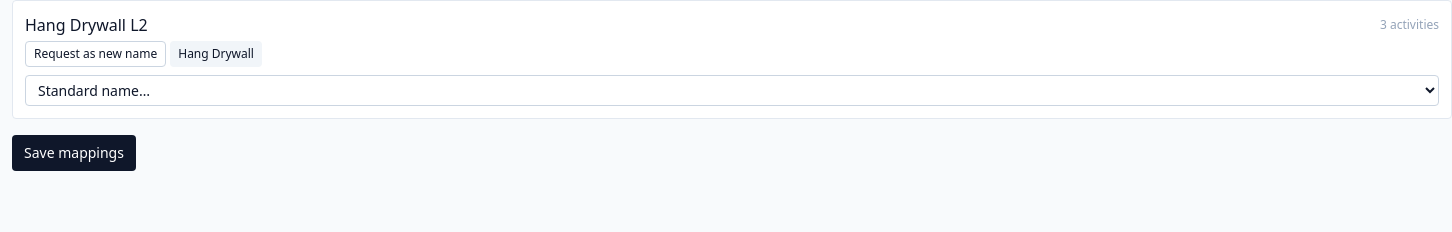
Test case: NormalizePanel › shows the server's message on failure
The width and height of the screenshot is (1452, 232).
Click the button "Save mappings": (74, 153) [12,135,136,171]
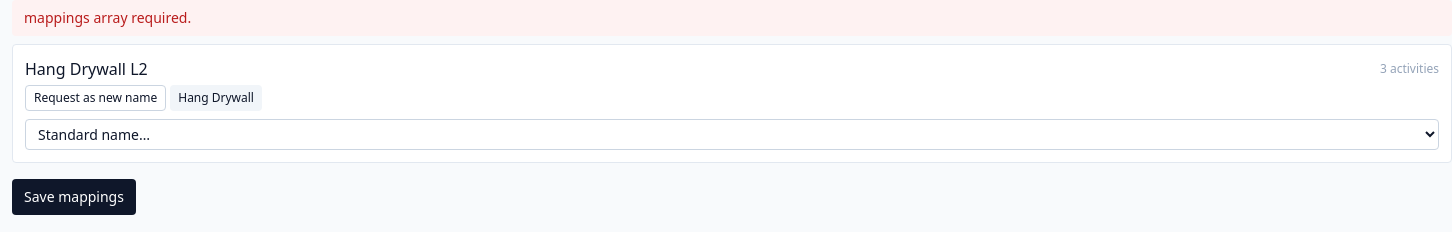
Now the text "mappings array required." is shown, box [12,0,1451,36]
